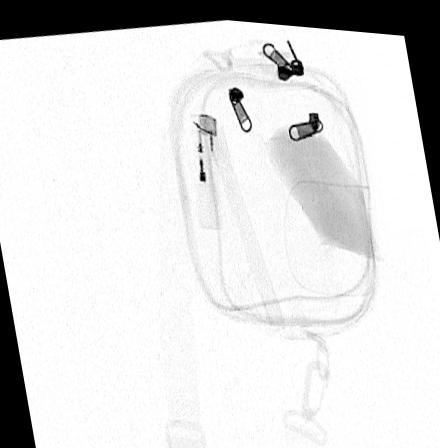Lighter: (189, 109, 223, 226)
